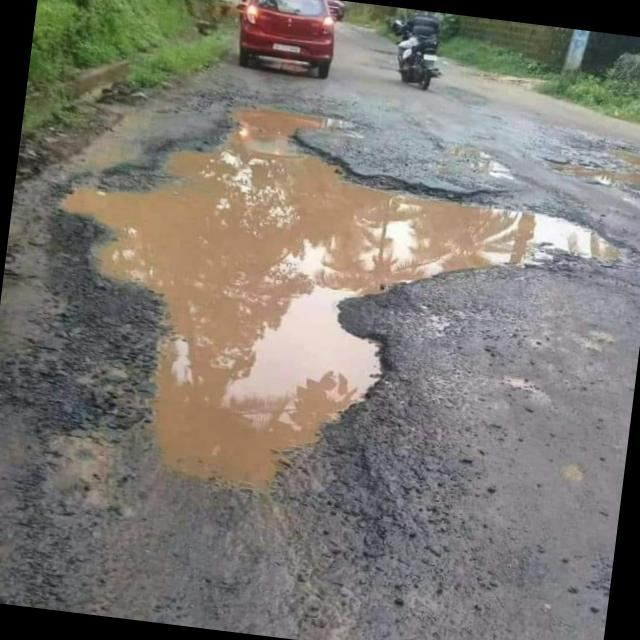Potholes: (20, 87, 640, 544)
